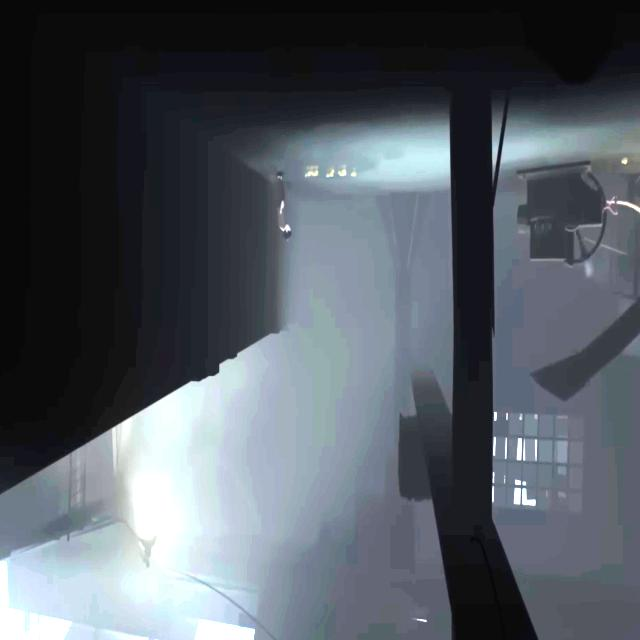boy: (276, 168, 292, 242)
